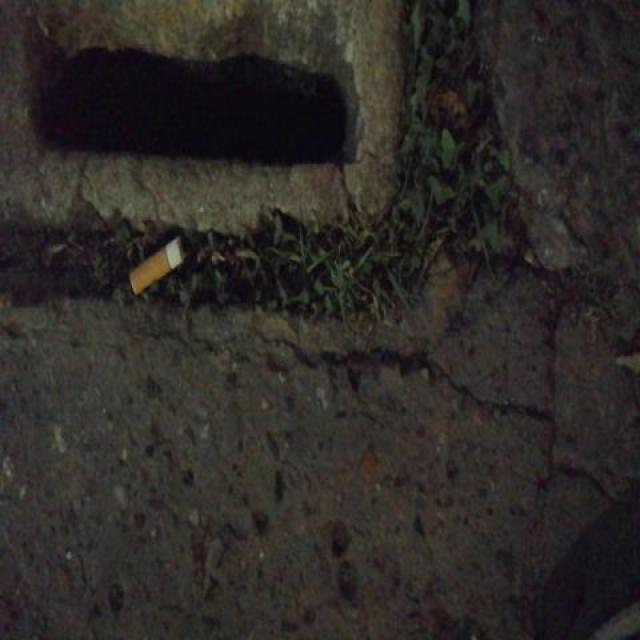non-organic waste: (121, 233, 192, 302)
